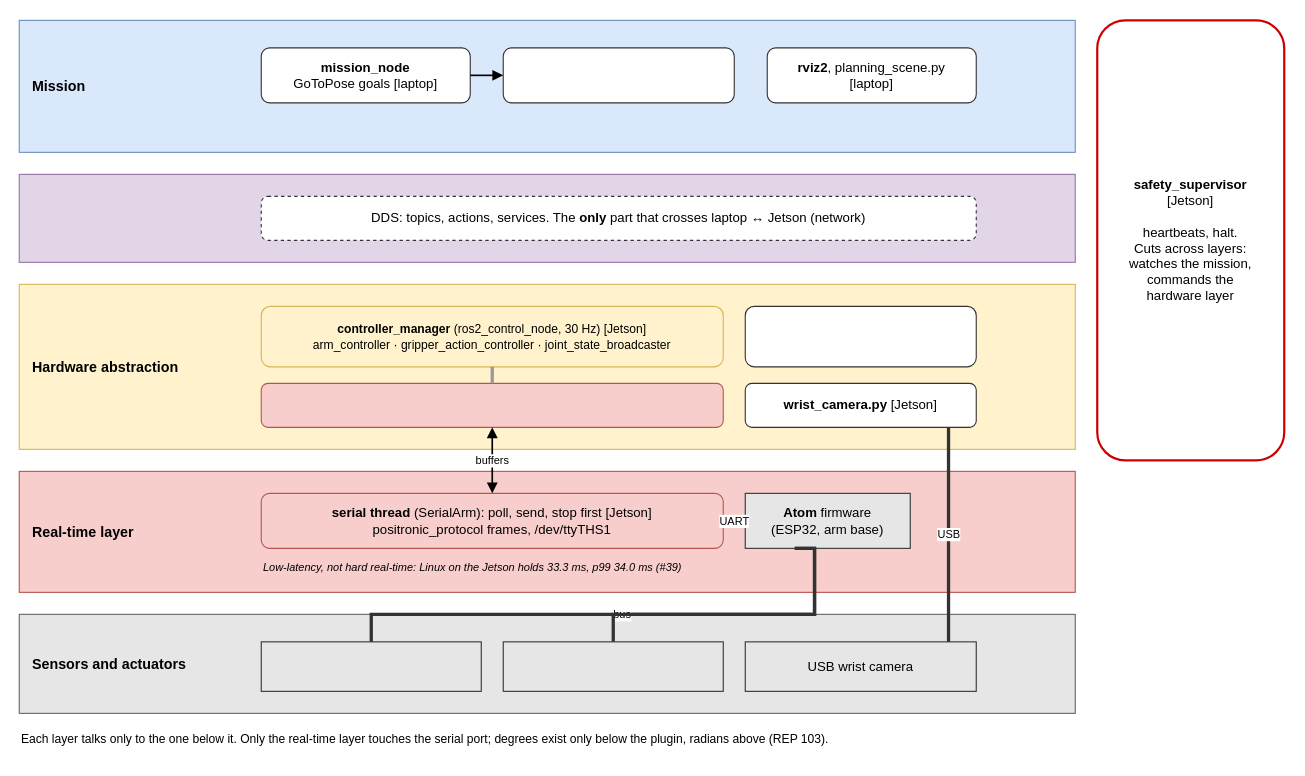
Image size: 1305x776. Some labels were removed from this diagram. Here are the shapes that lost their labels. From the top down, the box of each, then its label:
(502, 47, 734, 103): move_group (MoveIt 2) plans the trajectory [laptop]
(18, 173, 1075, 262): ROS 2 middleware
(744, 305, 976, 367): robot_state_publisher [Jetson]
(260, 382, 723, 427): positronic_hardware plugin: read() / write(), limit check, faults [Jetson]
(260, 641, 481, 691): 6 joint servos (STS-class)
(502, 641, 723, 691): gripper servo
